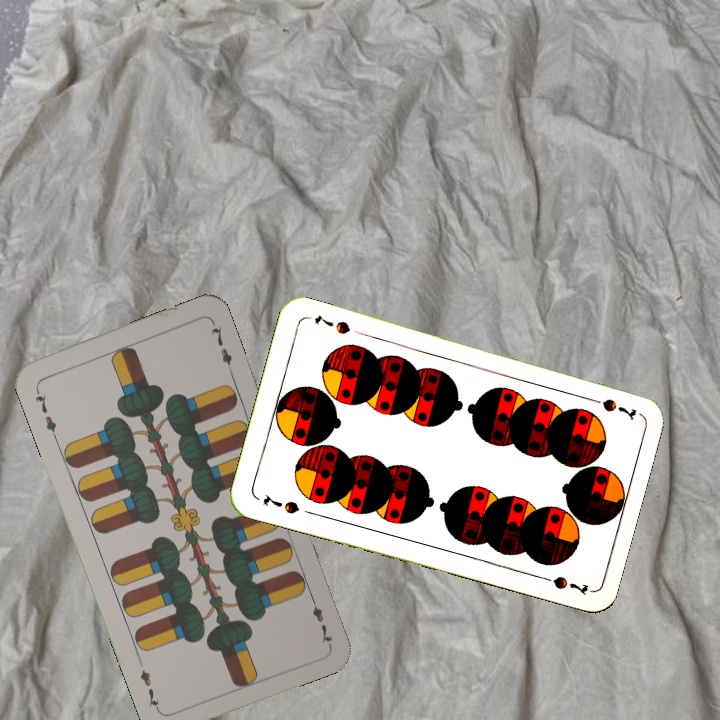E7: (31, 384, 60, 441), (306, 590, 335, 647)
S7: (582, 392, 639, 423), (259, 489, 302, 517)
